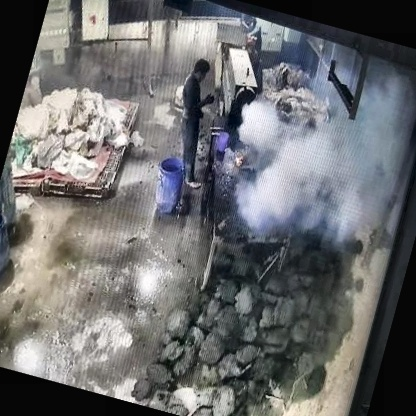smoke: (225, 96, 402, 246)
